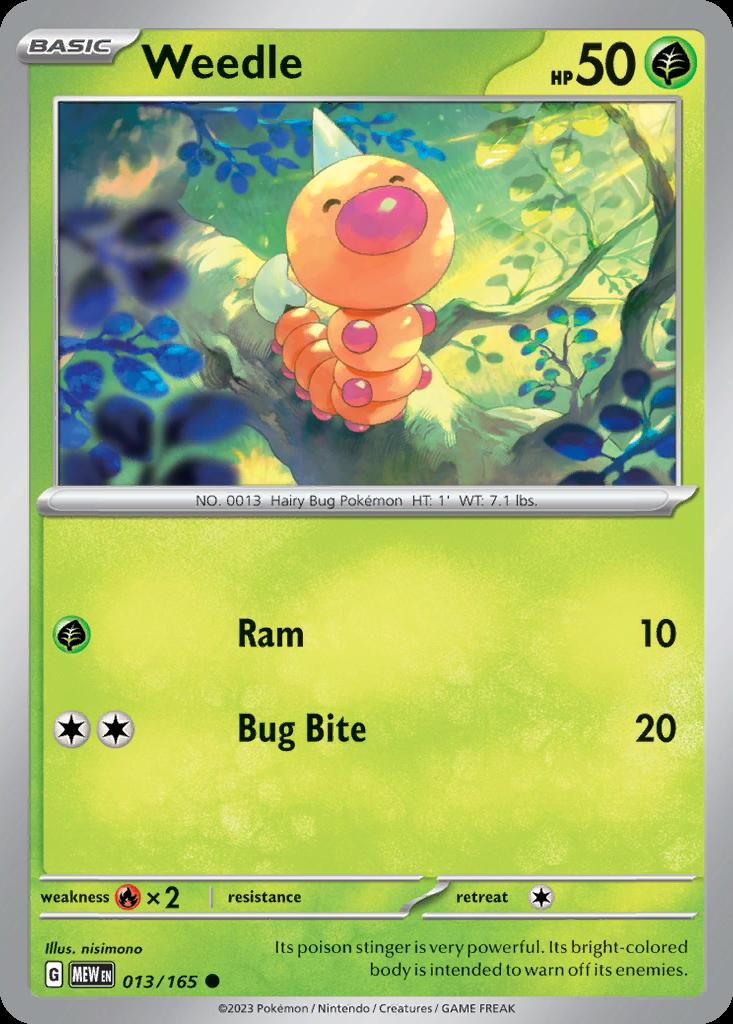card: (4, 4, 733, 1024)
hp: (543, 34, 704, 96)
name: (140, 31, 314, 90)
set num: (126, 970, 203, 991)
set symbol: (69, 963, 120, 989)
